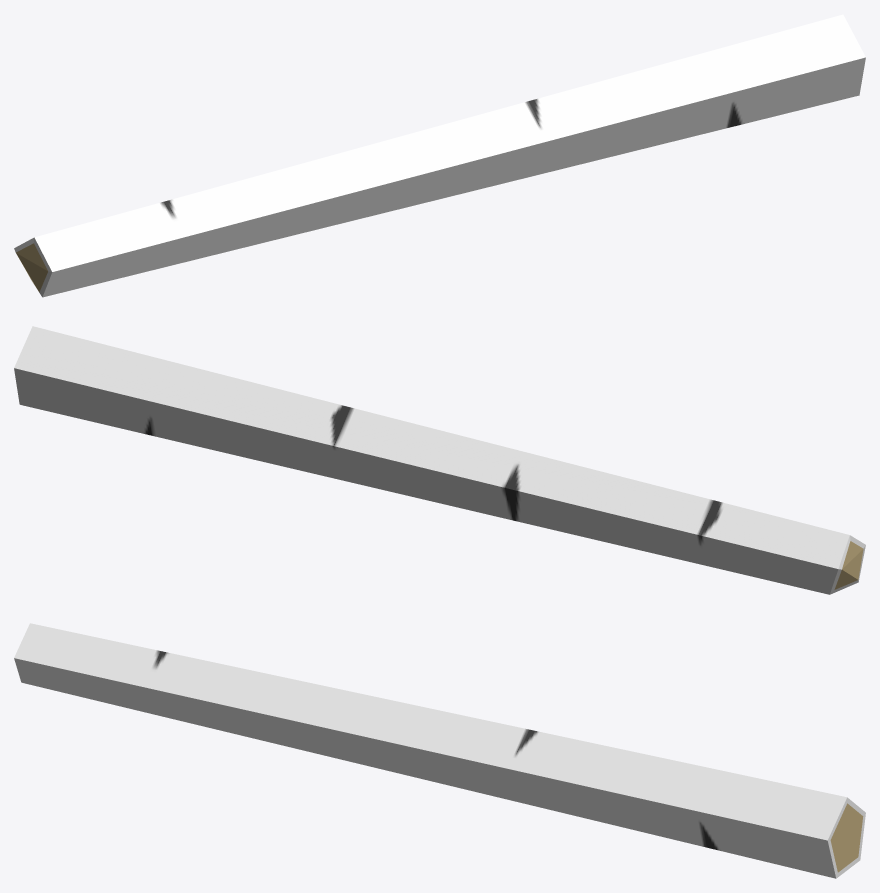
The model's file is Birch_Log_03_LOD.fbx.
3 renders of one model, top to bottom at view 1: azimuth 30°, elevation 25°; view 2: azimuth 150°, elevation 25°; view 3: azimuth 330°, elevation 25°, orthographic.
Parts seen in each view (by area): view 1: Birch_Log_03_LOD0; view 2: Birch_Log_03_LOD0; view 3: Birch_Log_03_LOD0.
Boxes of the visible parts, x1,y1,x2,y2 form: Birch_Log_03_LOD0: [14, 14, 865, 297]; Birch_Log_03_LOD0: [14, 326, 865, 594]; Birch_Log_03_LOD0: [14, 623, 865, 878].
Size of what is drawn, in the model's own units: 363 by 30.15 by 33.35.
